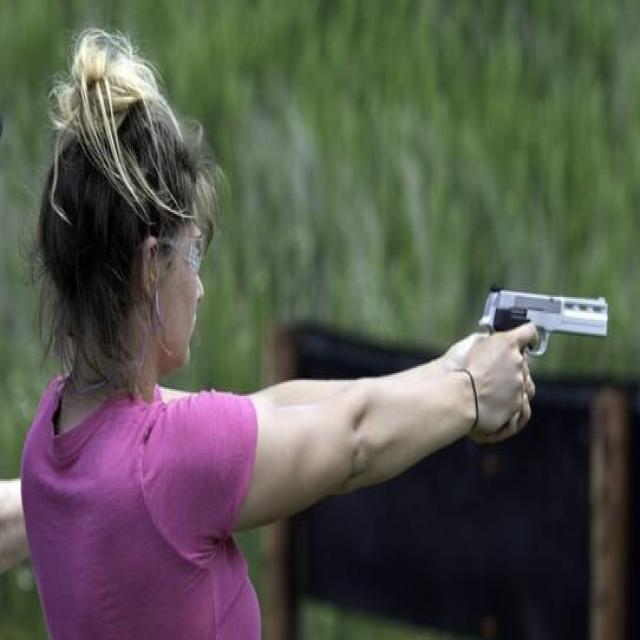Weapon: (478, 288, 607, 354)
